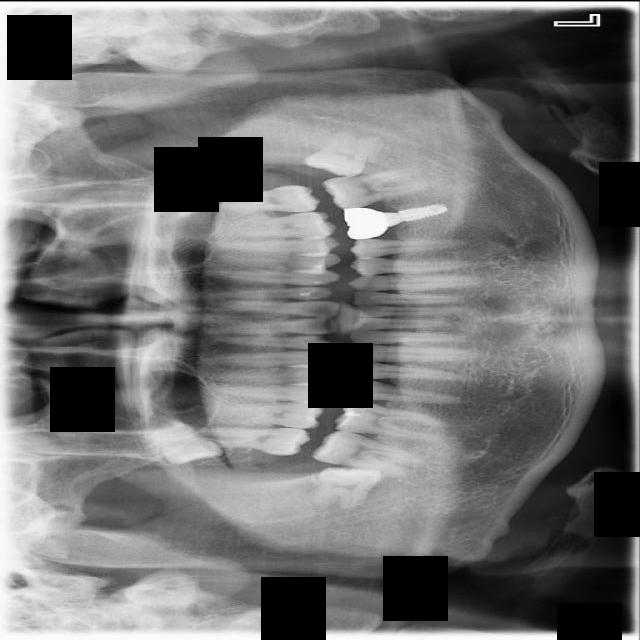3M ESPE Implant: (139, 412, 225, 482)
52: (330, 391, 380, 439), (343, 206, 389, 238), (290, 266, 340, 285), (292, 285, 331, 300)
73: (574, 36, 588, 40)
BioHorizons Implant: (203, 183, 320, 213)
BioLife Implant: (161, 162, 257, 204)
Biomet 3i Implant: (303, 117, 383, 184)
Blue Sky Bio Implant: (320, 163, 434, 213)
Caries: (199, 425, 310, 456)
Implant: (310, 424, 430, 481)
Keystone Dental Implant: (313, 466, 380, 509)
